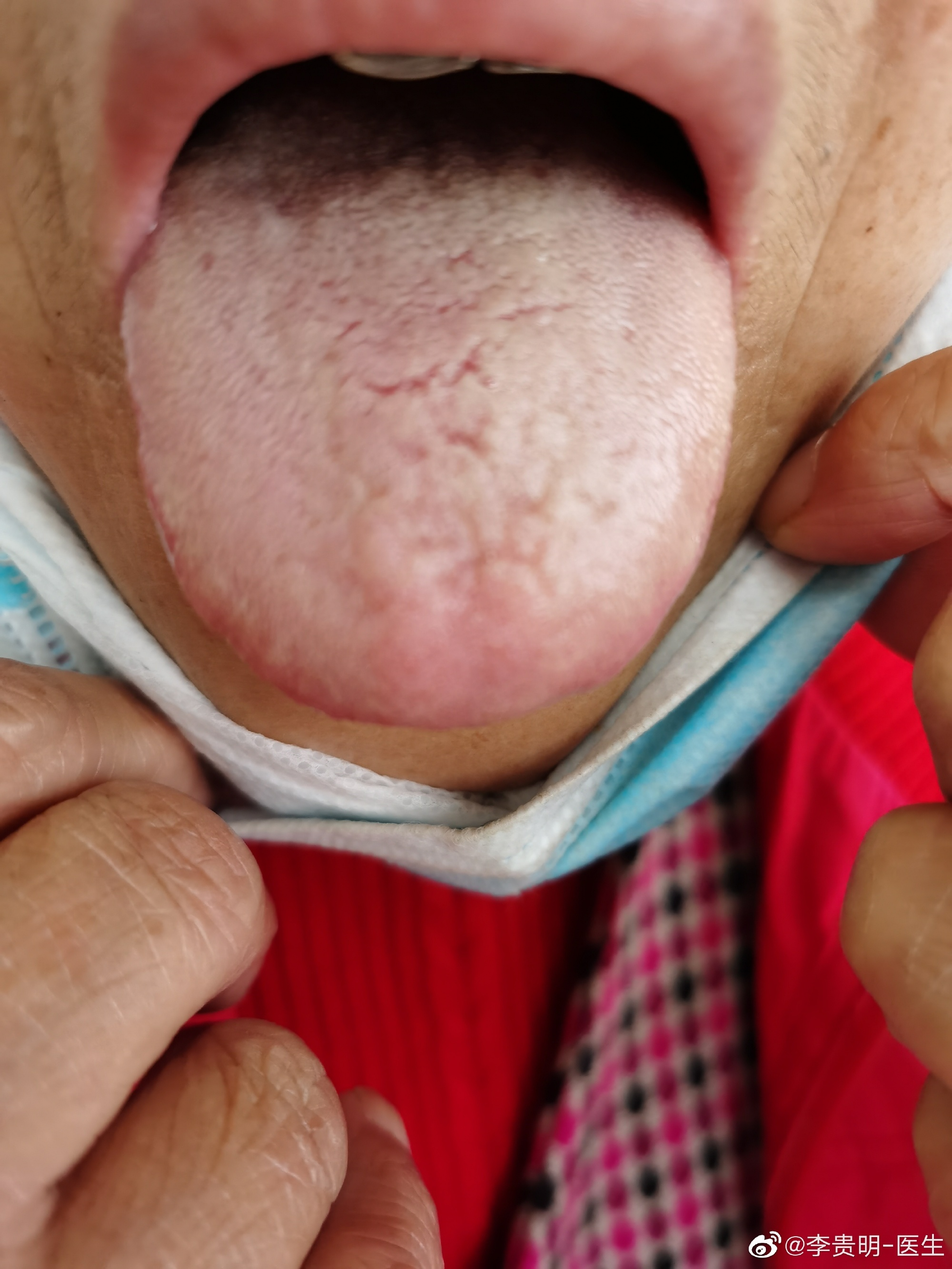baitaishe: (121, 91, 735, 723)
liewenshe: (323, 242, 574, 395)
